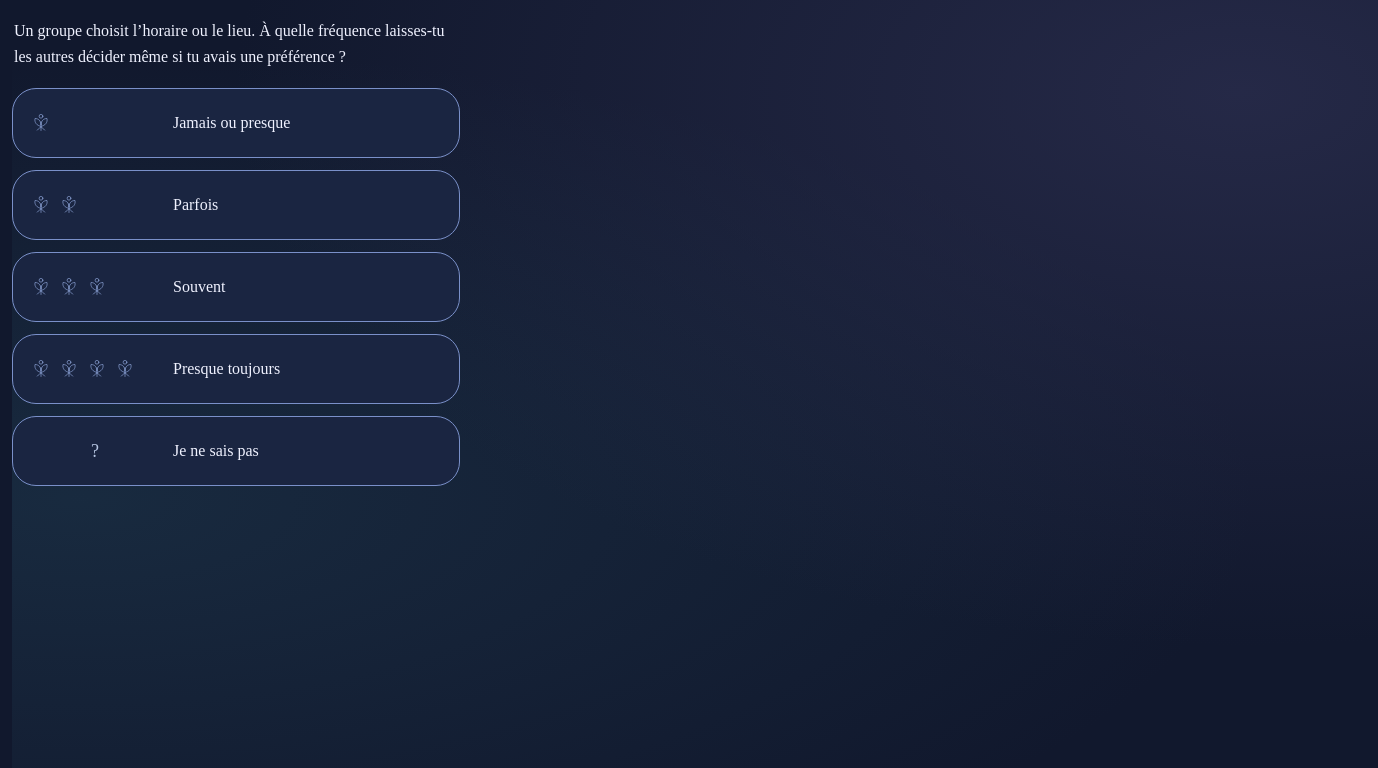
Scenario: [13.8] aucun type n’est demandé à quelqu’un que le test n’a pas su lire › [LE CŒUR] l’égalité finit sur un résultat honnêtement indéterminé, sans type cliquable
Step 1. Click the button "Presque toujours" → (236, 369), box [12,334,460,404]
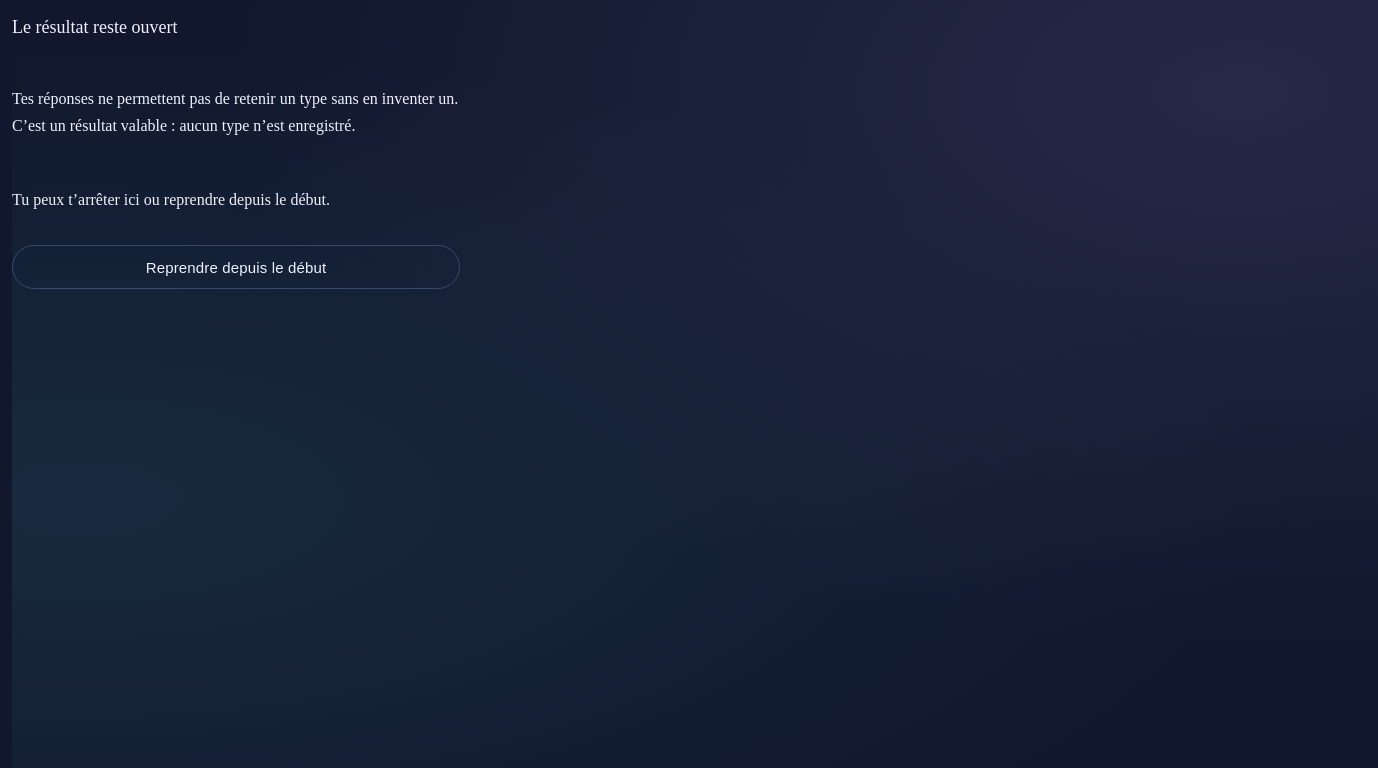
Expected: the element named "sans type" shows "aucun type", [12,90,458,134]
